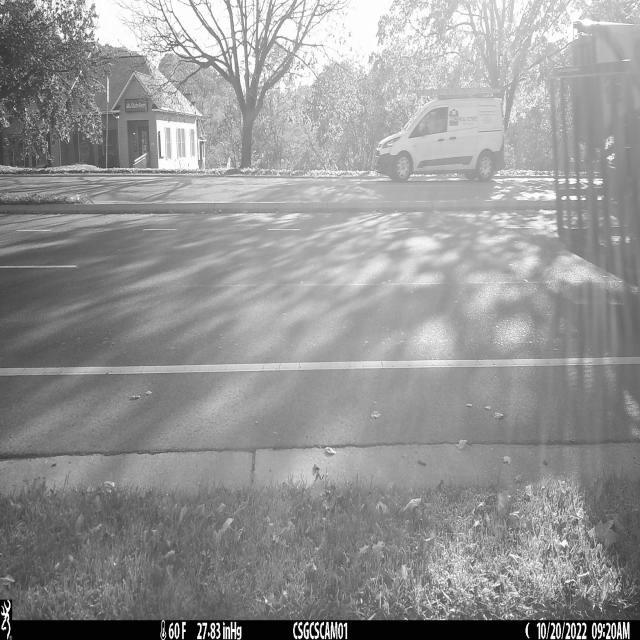Van: (378, 93, 505, 182)
